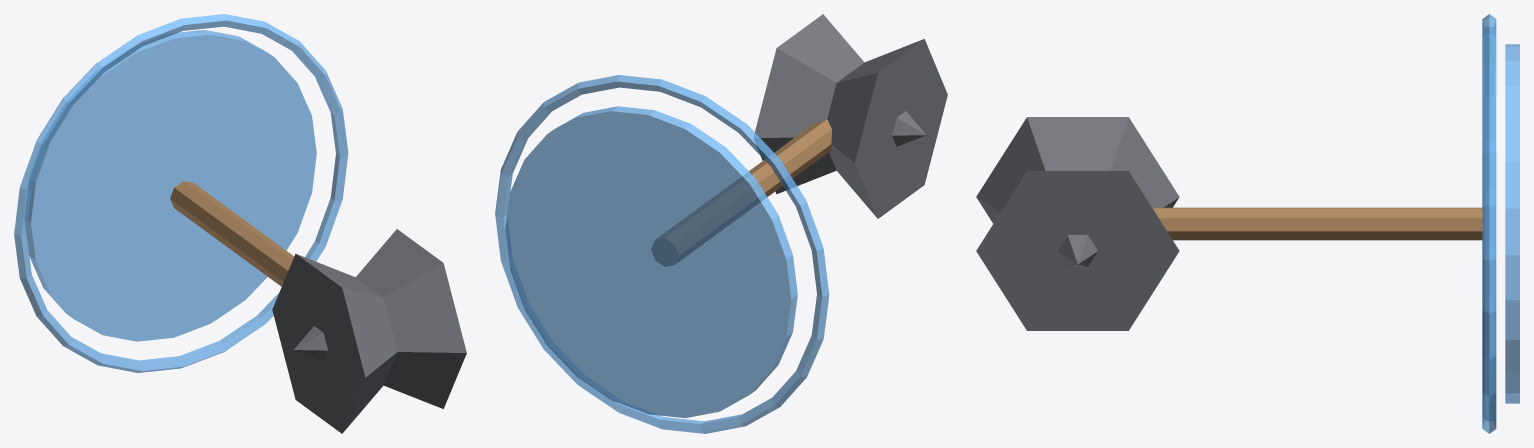
The model's file is weapon_pickup_war_axe_rare.glb.
The picture shows the model from 3 angles, left to right: view 1: azimuth 30°, elevation 25°; view 2: azimuth 150°, elevation 25°; view 3: azimuth 270°, elevation 25°; orthographic projection. The views are drawn at different scales.
Visible parts, largest first — view 1: rarity_base_disc, blade_left, rarity_orbit_ring, blade_right, haft; view 2: rarity_base_disc, blade_left, rarity_orbit_ring, blade_right, haft; view 3: blade_right, blade_left, haft, rarity_orbit_ring, rarity_base_disc.
Part boxes in pixels (x1,y1,x2,y2): rarity_base_disc: (25, 29, 316, 341); blade_left: (272, 253, 397, 433); rarity_orbit_ring: (14, 14, 348, 372); blade_right: (294, 229, 466, 408); haft: (170, 181, 294, 286); rarity_base_disc: (505, 106, 797, 418); blade_left: (827, 39, 947, 218); rarity_orbit_ring: (495, 75, 829, 433); blade_right: (754, 14, 926, 194); haft: (651, 119, 831, 266); blade_right: (976, 171, 1179, 330); blade_left: (976, 117, 1179, 266); haft: (1152, 207, 1482, 240); rarity_orbit_ring: (1482, 14, 1496, 433); rarity_base_disc: (1505, 44, 1519, 403).
Bounding box in the file's own units: 1.45 × 1.45 × 1.87.
